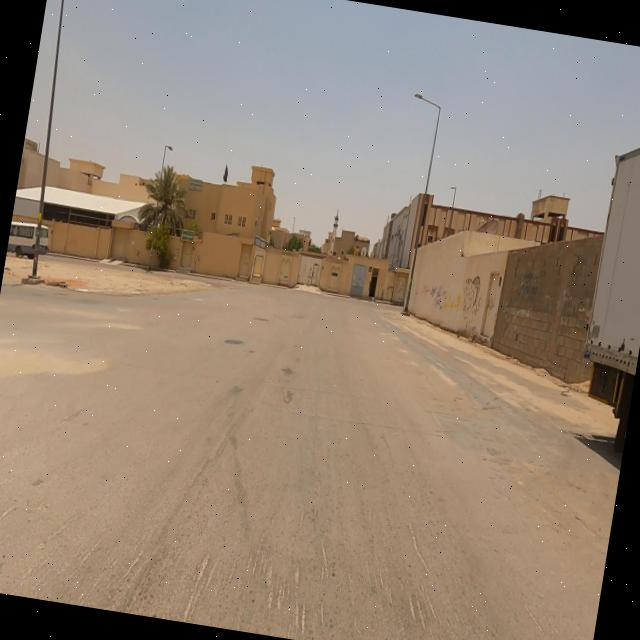Graffiti: (458, 275, 487, 324), (420, 285, 463, 318), (488, 296, 498, 317)
